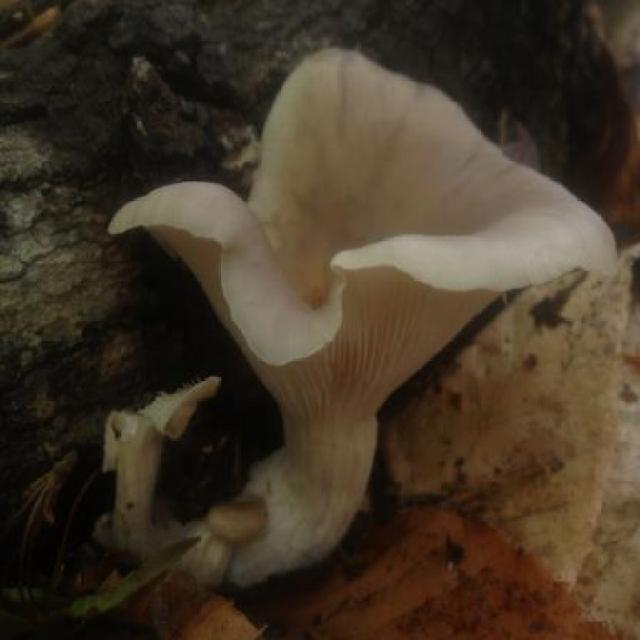Mushroom: (34, 39, 603, 584)
